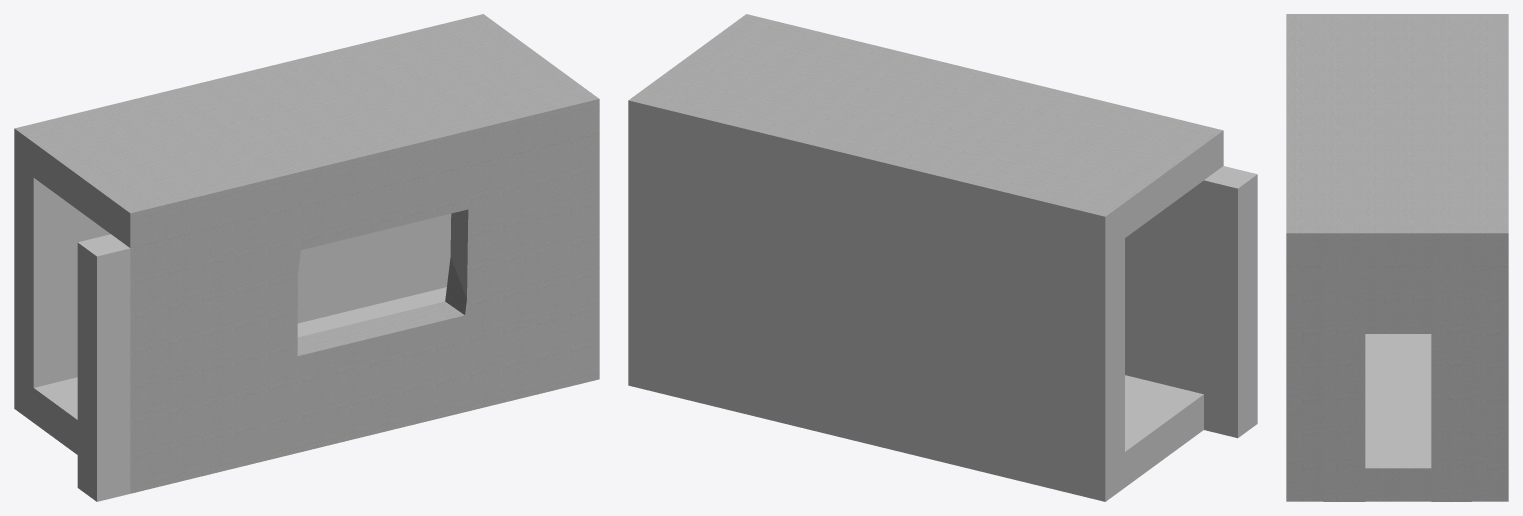
The model's file is Entry Hallway Structure.fbx.
The picture shows the model from 3 angles, left to right: view 1: azimuth 30°, elevation 25°; view 2: azimuth 150°, elevation 25°; view 3: azimuth 270°, elevation 25°; orthographic projection. The views are drawn at different scales.
Parts seen in each view (by area): view 1: mtr_wall_2 Mesh (1), normalwall-1 Mesh (1), Wall Mesh (1), normalfloor-1 Mesh (1); view 2: normalwall-1 Mesh (1), mtr_wall_2 Mesh (1), Wall Mesh (1), normalfloor-1 Mesh (1); view 3: mtr_wall_2 Mesh (1), normalfloor-1 Mesh (1).
Part boxes in pixels (left/top/right/bottom): mtr_wall_2 Mesh (1): left=14, top=14, right=599, bottom=493; normalwall-1 Mesh (1): left=33, top=178, right=451, bottom=501; Wall Mesh (1): left=14, top=128, right=130, bottom=501; normalfloor-1 Mesh (1): left=34, top=287, right=446, bottom=419; normalwall-1 Mesh (1): left=628, top=136, right=1257, bottom=501; mtr_wall_2 Mesh (1): left=628, top=14, right=1222, bottom=216; Wall Mesh (1): left=628, top=100, right=1257, bottom=501; normalfloor-1 Mesh (1): left=1125, top=375, right=1203, bottom=451; mtr_wall_2 Mesh (1): left=1286, top=14, right=1508, bottom=501; normalfloor-1 Mesh (1): left=1365, top=334, right=1431, bottom=468.
Size of what is drawn, in the model's own units: 15.02 by 8 by 6.
